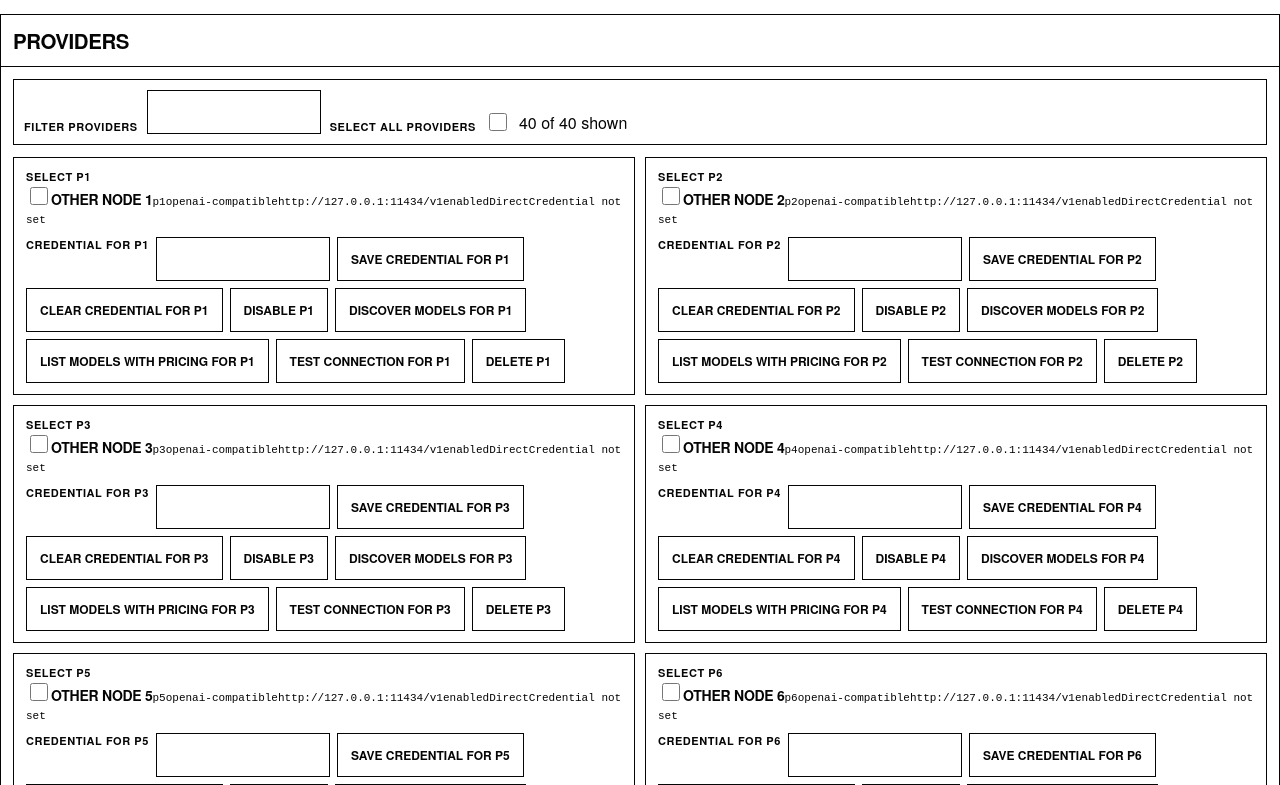
it: bulk provider proxy assignment › select-all selects every visible provider
Check: the text "Other node 1" is shown, box x1=51 y1=189 x2=152 y2=209
Step 1. Click the checkbox with test id "provider-select-all" → (498, 122), box x1=489 y1=113 x2=507 y2=131
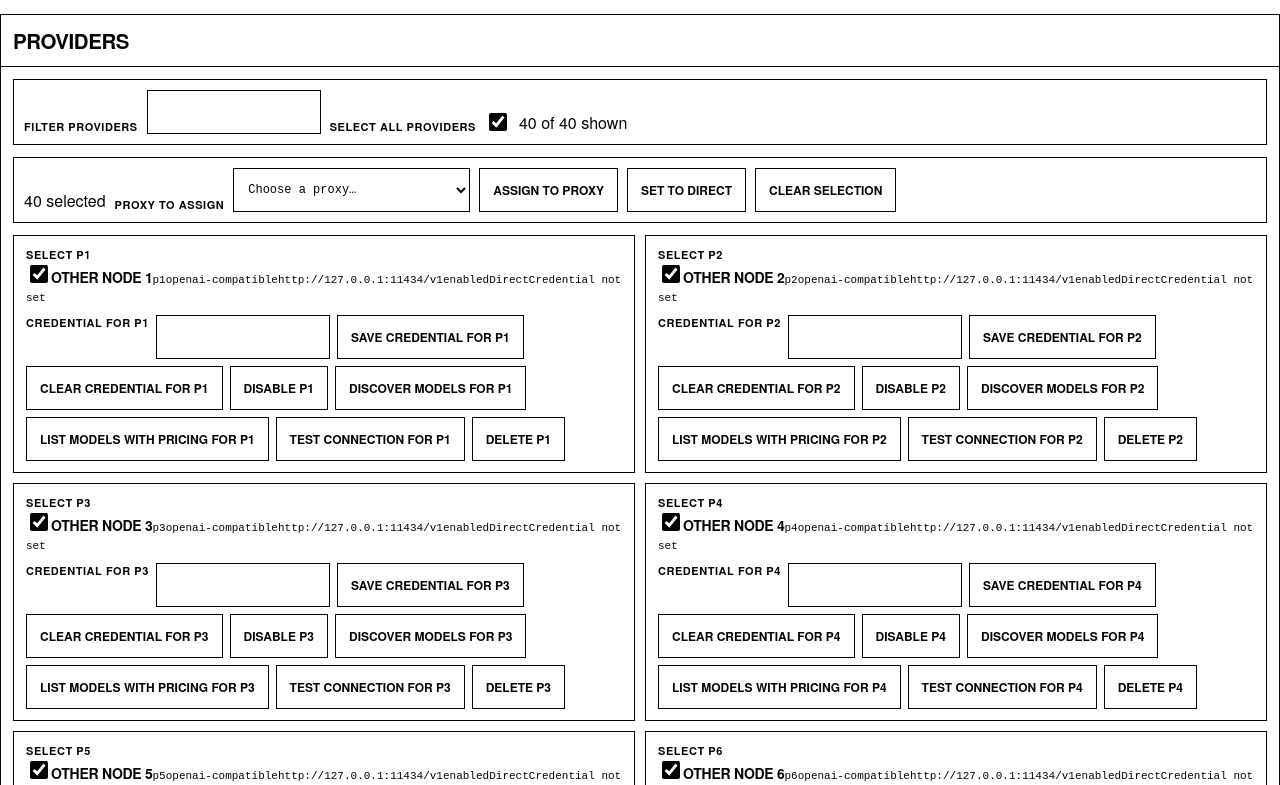
Check: the element with test id "proxy-assign-bar" shows "40 selected", box x1=13 y1=157 x2=1267 y2=223
